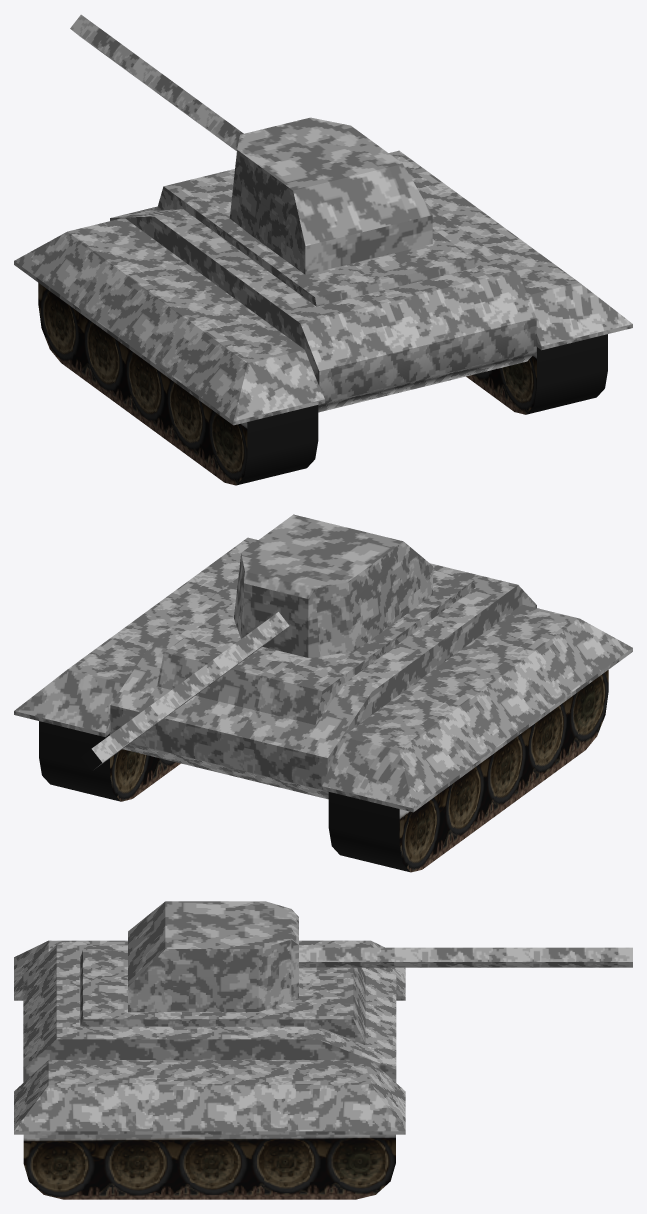
File: tank.fbx
3 renders of one model, top to bottom at view 1: azimuth 30°, elevation 25°; view 2: azimuth 150°, elevation 25°; view 3: azimuth 270°, elevation 25°, orthographic. The views are drawn at different scales.
Visible parts, largest first — view 1: pPlane11; view 2: pPlane11; view 3: pPlane11.
Boxes of the visible parts, x1,y1,x2,y2 form: pPlane11: (14,14,632,485); pPlane11: (14,514,632,872); pPlane11: (14,901,632,1199).
Bounding box in the file's own units: 22.06 × 11.6 × 33.18.
1 material, 1 textured.
